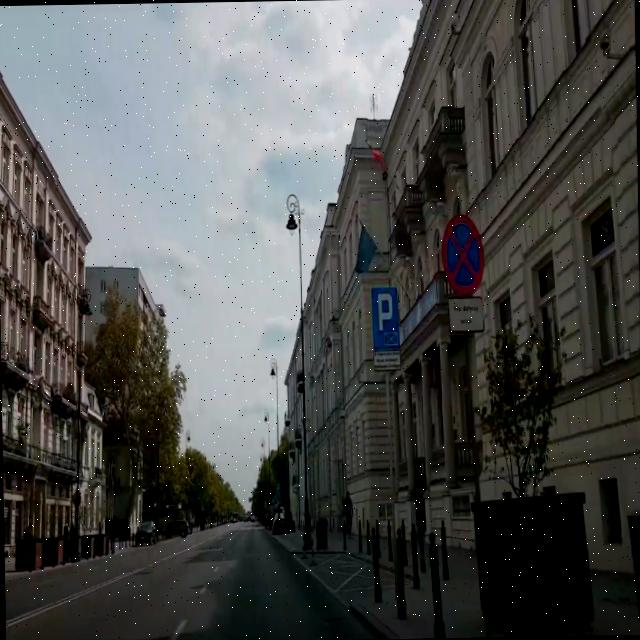Zakaz zatrzymywania sie: (442, 212, 486, 296)
